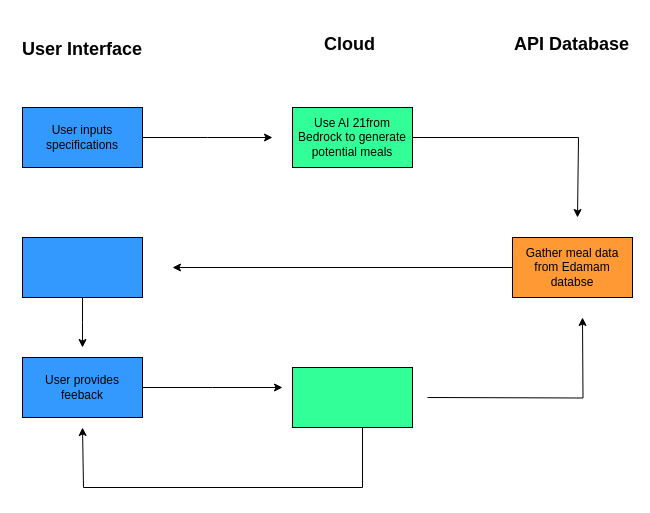
Some shapes in this 650 by 513 pixel diagram are drawn without their labels. The shapes that lost their labels are listed below. From the top down, each one's box as (x1, y1, x2, y2) in pixels, then its label:
(22, 236, 142, 298): Potential meals displayed to user
(292, 366, 412, 428): Chatbot discusses potential improvements with user
